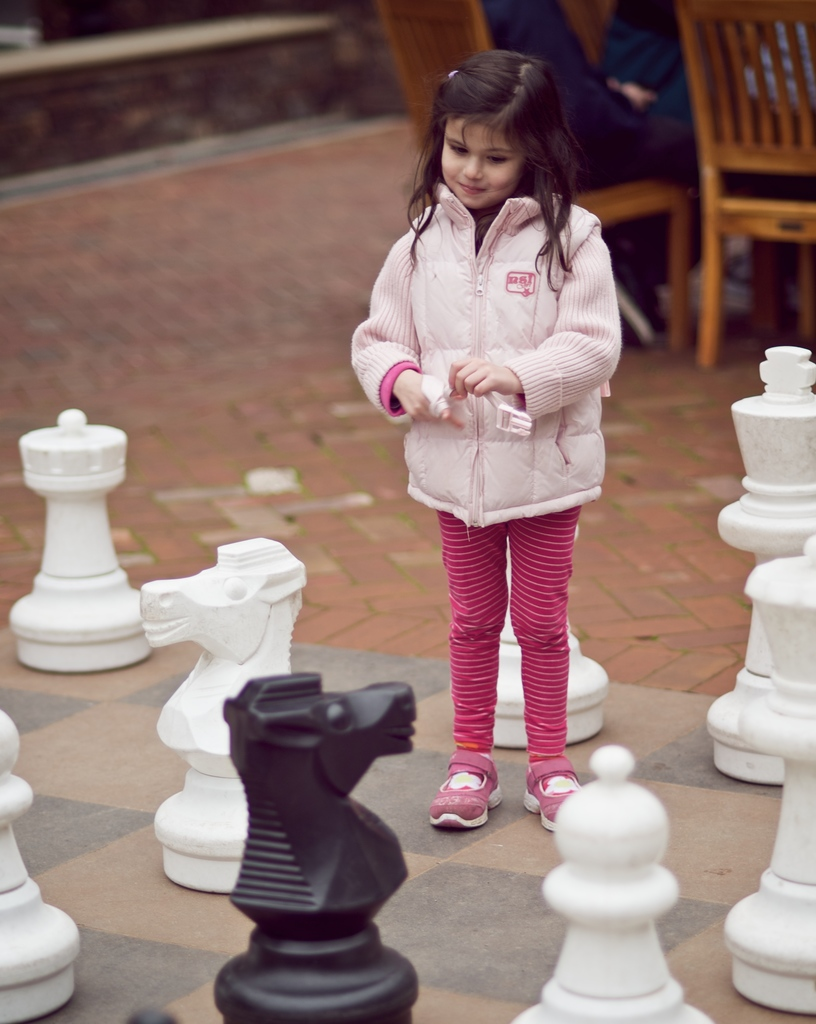Human_hand: (391, 374, 468, 433), (445, 358, 524, 398)
